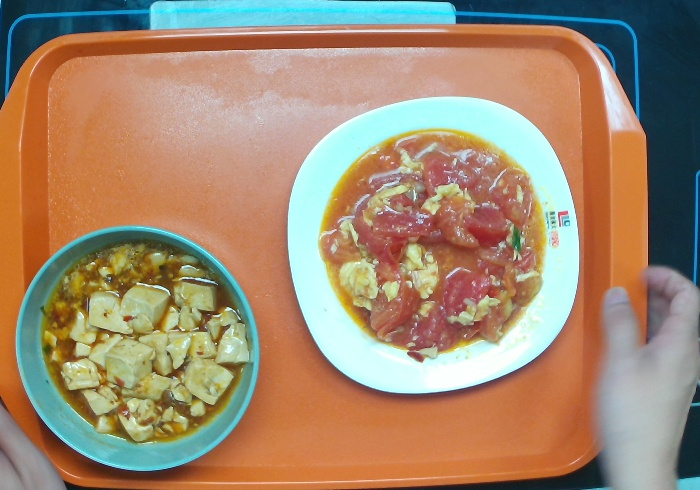ZNLD-Qing_Hua_Yuan_Wan: (6, 221, 269, 475)
ZNLD-Yuan_Jiao_Pan: (279, 79, 596, 401)
